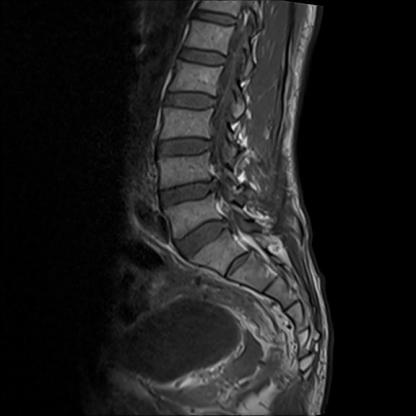Disc Bulgerotation: (169, 219, 240, 259)
